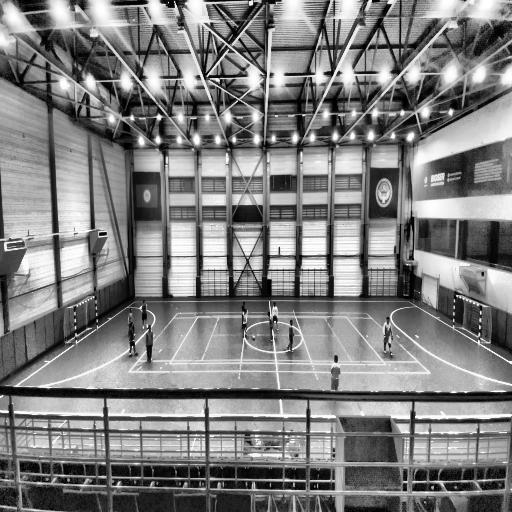ball: (251, 333, 256, 342)
player: (328, 354, 342, 390), (383, 317, 394, 358), (128, 322, 138, 358), (139, 298, 149, 330), (146, 324, 154, 363), (286, 319, 295, 353), (128, 308, 136, 336), (268, 312, 274, 343), (273, 302, 279, 332), (243, 308, 247, 338), (242, 301, 246, 329)
